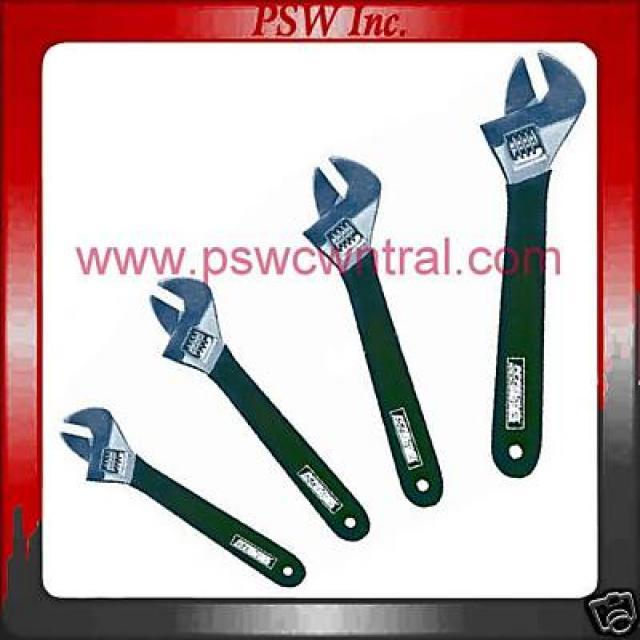wrench: (143, 272, 376, 544), (298, 152, 448, 510), (55, 402, 313, 594), (479, 47, 592, 481)
